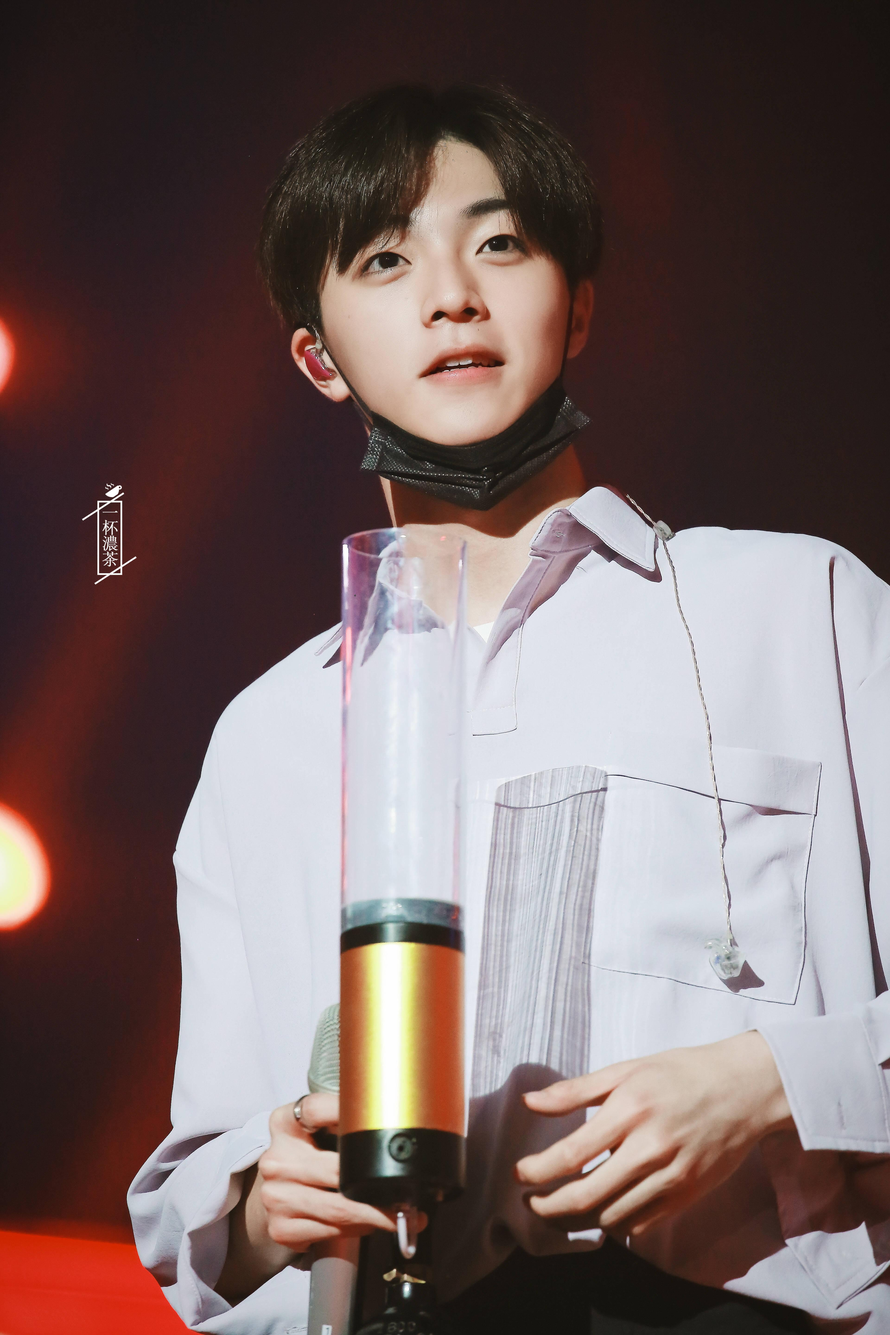WRONG: (324, 161, 576, 467)
